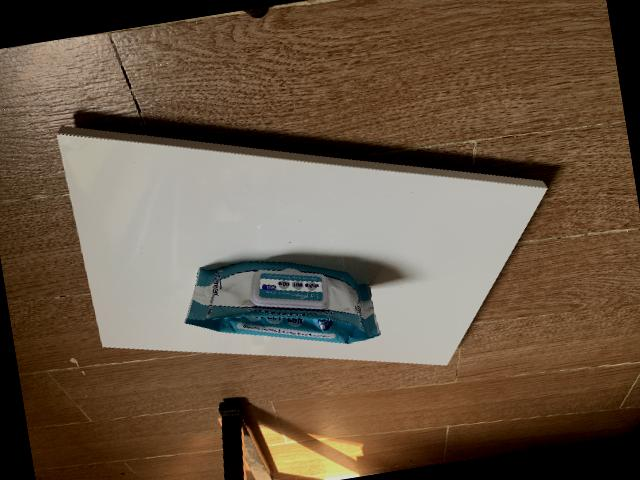Let-green_alcohol_wipes: (183, 260, 379, 343)
